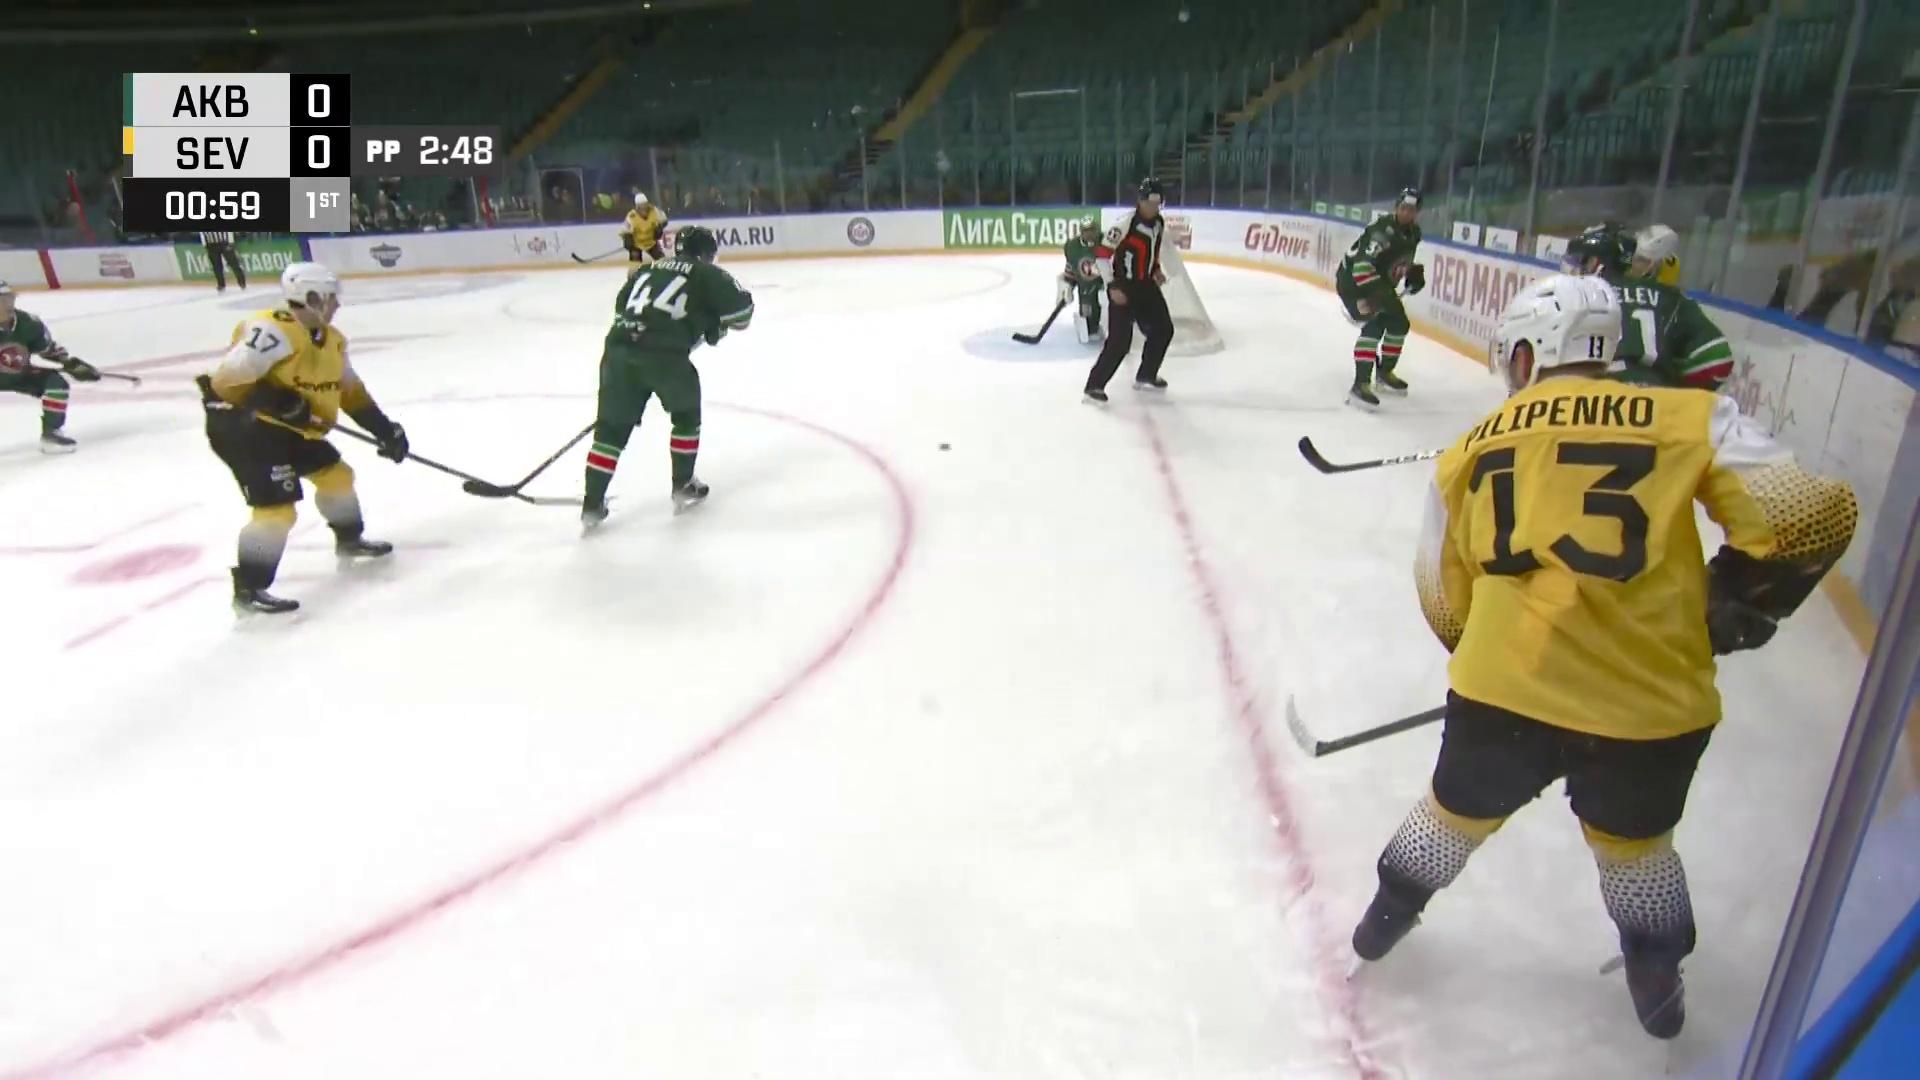ball: (939, 442, 949, 454)
